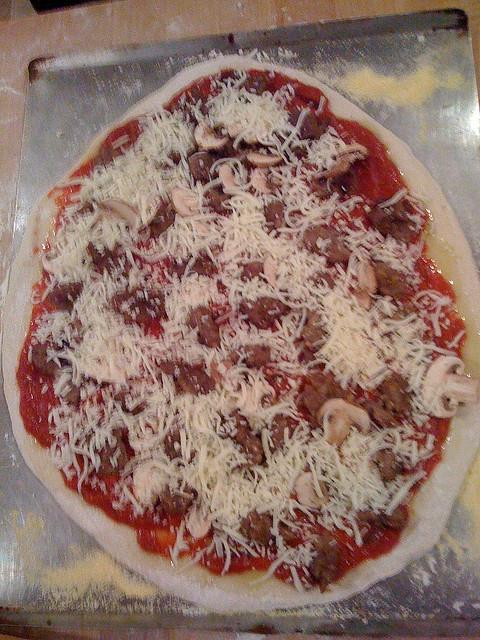mushroom: (422, 356, 479, 418), (316, 398, 370, 450), (97, 200, 140, 228), (295, 471, 328, 507), (194, 122, 230, 150), (170, 187, 200, 217), (184, 508, 212, 538), (358, 260, 378, 294), (238, 388, 260, 416), (246, 152, 281, 168), (262, 255, 278, 289), (219, 164, 241, 188), (81, 374, 111, 389), (252, 178, 272, 194)
